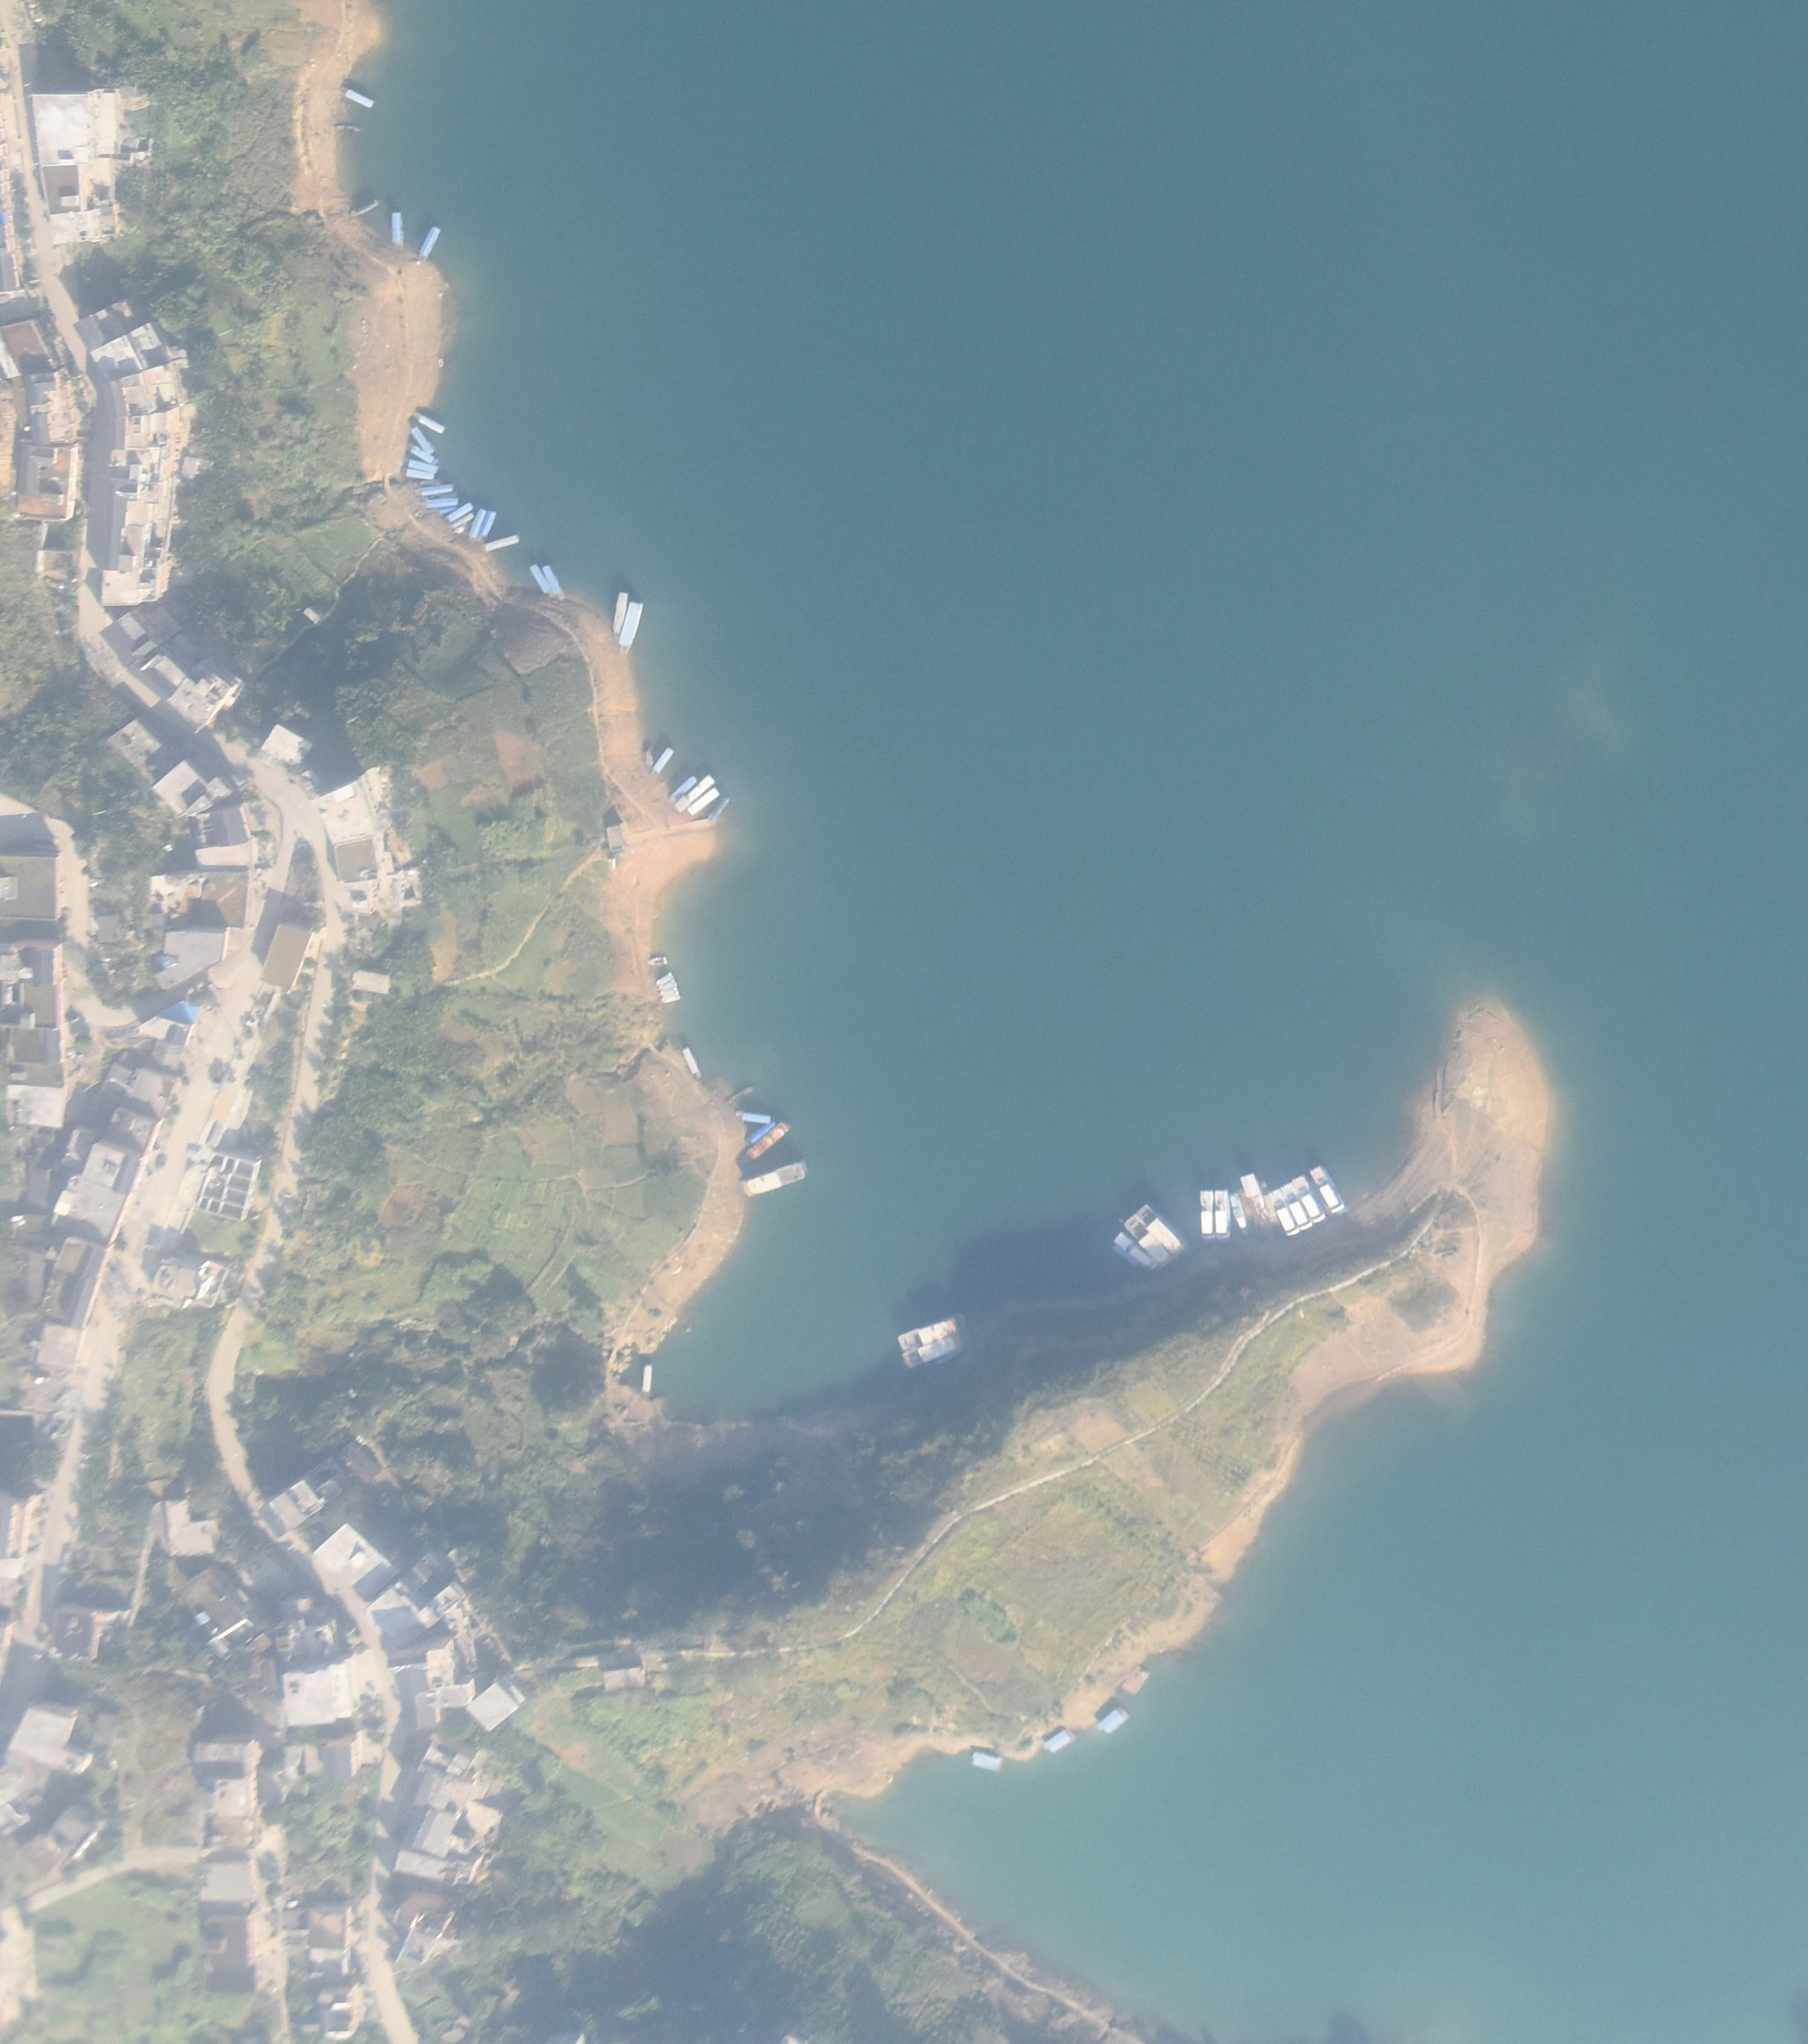building: (38, 1064, 185, 1365), (89, 319, 190, 604), (30, 96, 127, 244), (2, 944, 65, 1132), (149, 873, 251, 989), (1, 1706, 90, 1832), (283, 1904, 365, 2041), (282, 1596, 355, 1724), (368, 1553, 465, 1647), (2, 1494, 50, 1680), (195, 1736, 263, 1863), (21, 1796, 108, 1879), (438, 1578, 512, 1675), (268, 1454, 354, 1538), (312, 1522, 397, 1604), (397, 1635, 470, 1729), (200, 1907, 268, 1996), (168, 658, 245, 734), (401, 1803, 503, 1858), (180, 1564, 243, 1646), (193, 1151, 264, 1222), (30, 373, 97, 446), (319, 776, 392, 843), (150, 1254, 230, 1314), (16, 444, 77, 522), (150, 760, 232, 815), (193, 805, 258, 871), (390, 1896, 449, 1966), (107, 722, 177, 780), (1, 315, 62, 377), (3, 857, 62, 921), (388, 1849, 480, 1890), (260, 918, 310, 993), (468, 1670, 525, 1734), (419, 1736, 488, 1784), (112, 607, 182, 653), (75, 302, 138, 348), (166, 1499, 214, 1557), (137, 1004, 201, 1045), (259, 725, 314, 767), (320, 1732, 366, 1781), (53, 1611, 97, 1659), (602, 1650, 647, 1693), (411, 1772, 457, 1815), (140, 649, 186, 691), (337, 840, 380, 880), (27, 1167, 55, 1210), (354, 967, 391, 994), (151, 1040, 180, 1069), (2, 255, 22, 295), (181, 456, 211, 477), (250, 1629, 273, 1654), (208, 1641, 232, 1662), (607, 821, 624, 852), (564, 1656, 597, 1670)
prefabricated-house: (1094, 1710, 1129, 1734), (1122, 1665, 1148, 1695), (1044, 1731, 1078, 1751), (974, 1752, 1002, 1772)
ship: (1125, 1215, 1174, 1278), (891, 1316, 965, 1350), (1136, 1206, 1185, 1256), (741, 1164, 808, 1195), (1113, 1229, 1157, 1275), (1237, 1170, 1269, 1229), (742, 1123, 790, 1157), (1294, 1174, 1324, 1228), (900, 1340, 962, 1366), (1310, 1165, 1342, 1211), (675, 774, 714, 811), (1269, 1186, 1296, 1240), (1283, 1180, 1310, 1230), (621, 601, 644, 659), (669, 774, 698, 807), (529, 560, 551, 604), (1214, 1190, 1232, 1241), (544, 564, 567, 604), (418, 227, 441, 265), (690, 788, 722, 812), (1264, 1182, 1280, 1228), (1199, 1192, 1214, 1239), (344, 85, 373, 110), (482, 535, 523, 553), (411, 425, 434, 454), (1240, 1190, 1257, 1230), (415, 412, 447, 433), (613, 590, 627, 637), (655, 746, 676, 776), (730, 1110, 771, 1125), (1232, 1193, 1246, 1239), (468, 506, 484, 541), (411, 443, 438, 464), (683, 1045, 700, 1079), (709, 797, 732, 821), (725, 1085, 753, 1103), (446, 501, 472, 520), (406, 457, 440, 471), (747, 1124, 773, 1141), (481, 510, 496, 540), (392, 212, 404, 249), (353, 199, 376, 217), (421, 497, 457, 508), (402, 469, 438, 480), (415, 485, 455, 494), (452, 514, 475, 528), (656, 969, 672, 985), (644, 1365, 651, 1399), (333, 123, 358, 132), (645, 956, 668, 966), (415, 477, 440, 485), (658, 981, 677, 989), (661, 989, 680, 997), (645, 748, 651, 770), (457, 522, 470, 534), (438, 506, 457, 513), (661, 996, 680, 1002)
